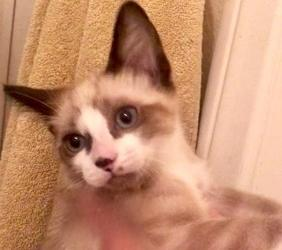ragdoll: (5, 1, 200, 201)
